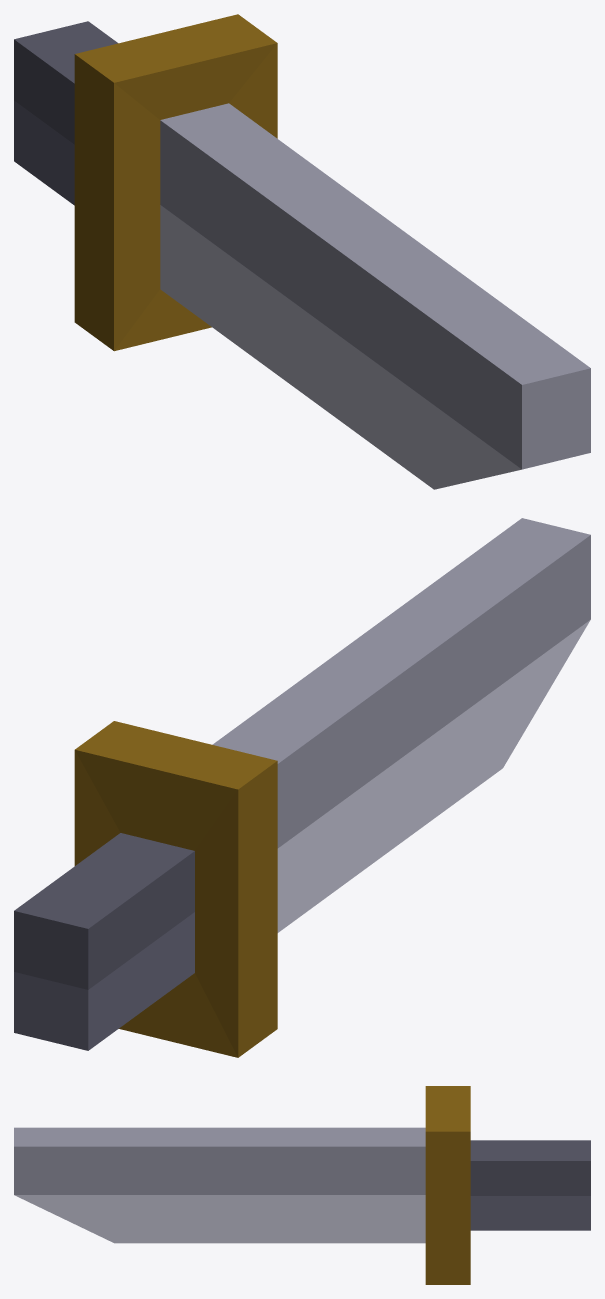
File: sword.glb
3 views of the same model, one above another, from view 1: azimuth 30°, elevation 25°; view 2: azimuth 150°, elevation 25°; view 3: azimuth 270°, elevation 25° (orthographic). The views are drawn at different scales.
Visible parts, largest first — view 1: sword; view 2: sword; view 3: sword.
Part boxes in pixels (x1=…): sword: x1=14, y1=14, x2=590, y2=489; sword: x1=14, y1=518, x2=590, y2=1057; sword: x1=14, y1=1086, x2=590, y2=1284.
Size of the model in its own units: 0.4961 by 0.7784 by 2.66.
